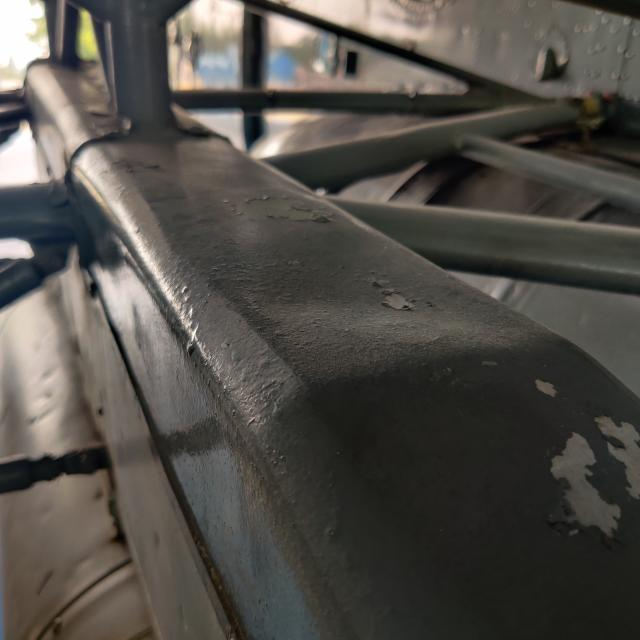paint-off: (529, 410, 640, 552)
